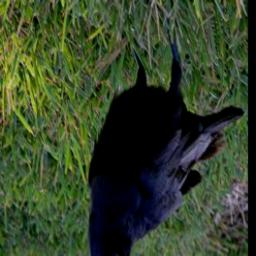Crow: (88, 24, 245, 256)
